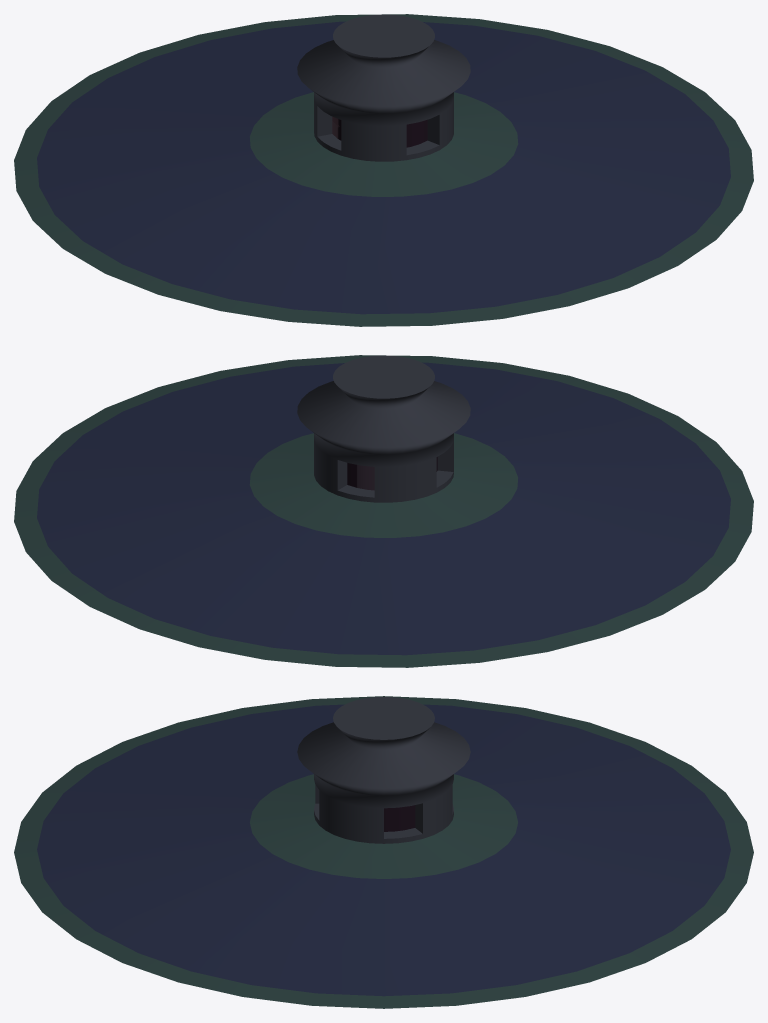
Rendered from alienShip.fbx.
3 views of the same model, one above another, from view 1: azimuth 30°, elevation 25°; view 2: azimuth 150°, elevation 25°; view 3: azimuth 270°, elevation 25° (orthographic).
Parts seen in each view (by area): view 1: Cylinder; view 2: Cylinder; view 3: Cylinder.
Part boxes in pixels (x1,y1,x2,y2): Cylinder: (14,14,753,326); Cylinder: (14,355,753,667); Cylinder: (14,696,753,1008).
Size of the model in its own units: 48.41 by 16.35 by 48.41.
Materials: 1 (1 with a texture image).
